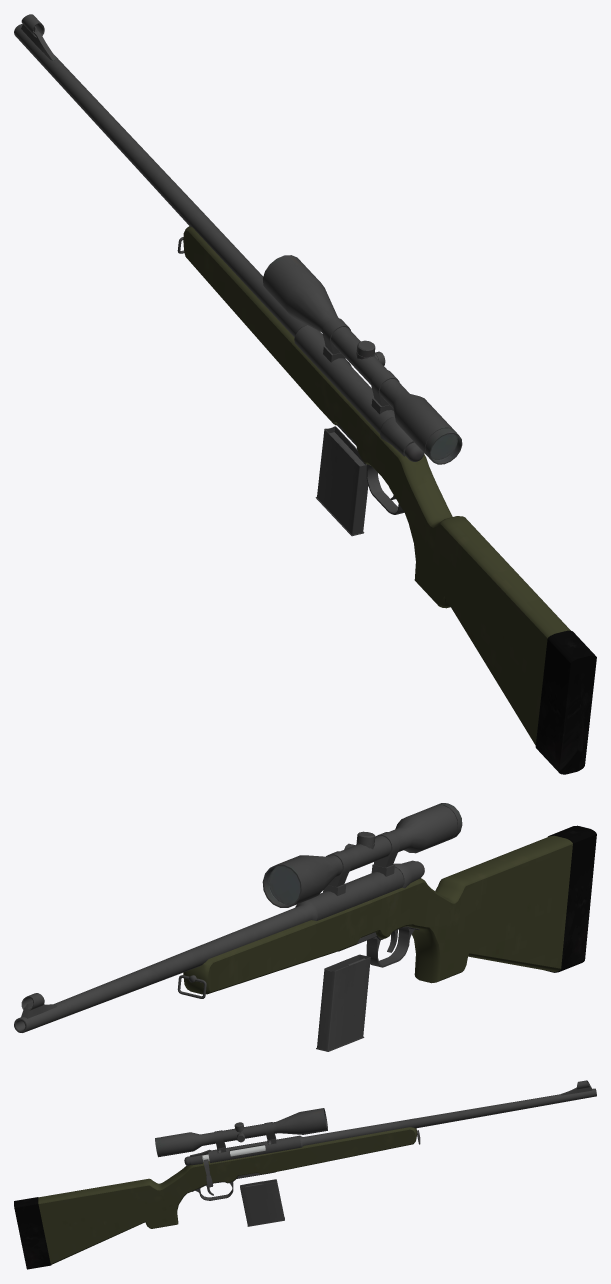
File: sniper.glb
3 views of the same model, one above another, from view 1: azimuth 30°, elevation 25°; view 2: azimuth 150°, elevation 25°; view 3: azimuth 270°, elevation 25° (orthographic). The views are drawn at different scales.
Visible parts, largest first — view 1: body, mag; view 2: body, mag; view 3: body, mag.
Boxes of the visible parts, x1,y1,x2,y2 form: body: (14,14,596,774); mag: (315,426,368,536); body: (14,803,596,1032); mag: (316,954,370,1051); body: (14,1080,596,1269); mag: (240,1179,284,1226).
Size of the model in its own units: 0.0598 by 0.4178 by 1.18.
1 material, 1 textured.
